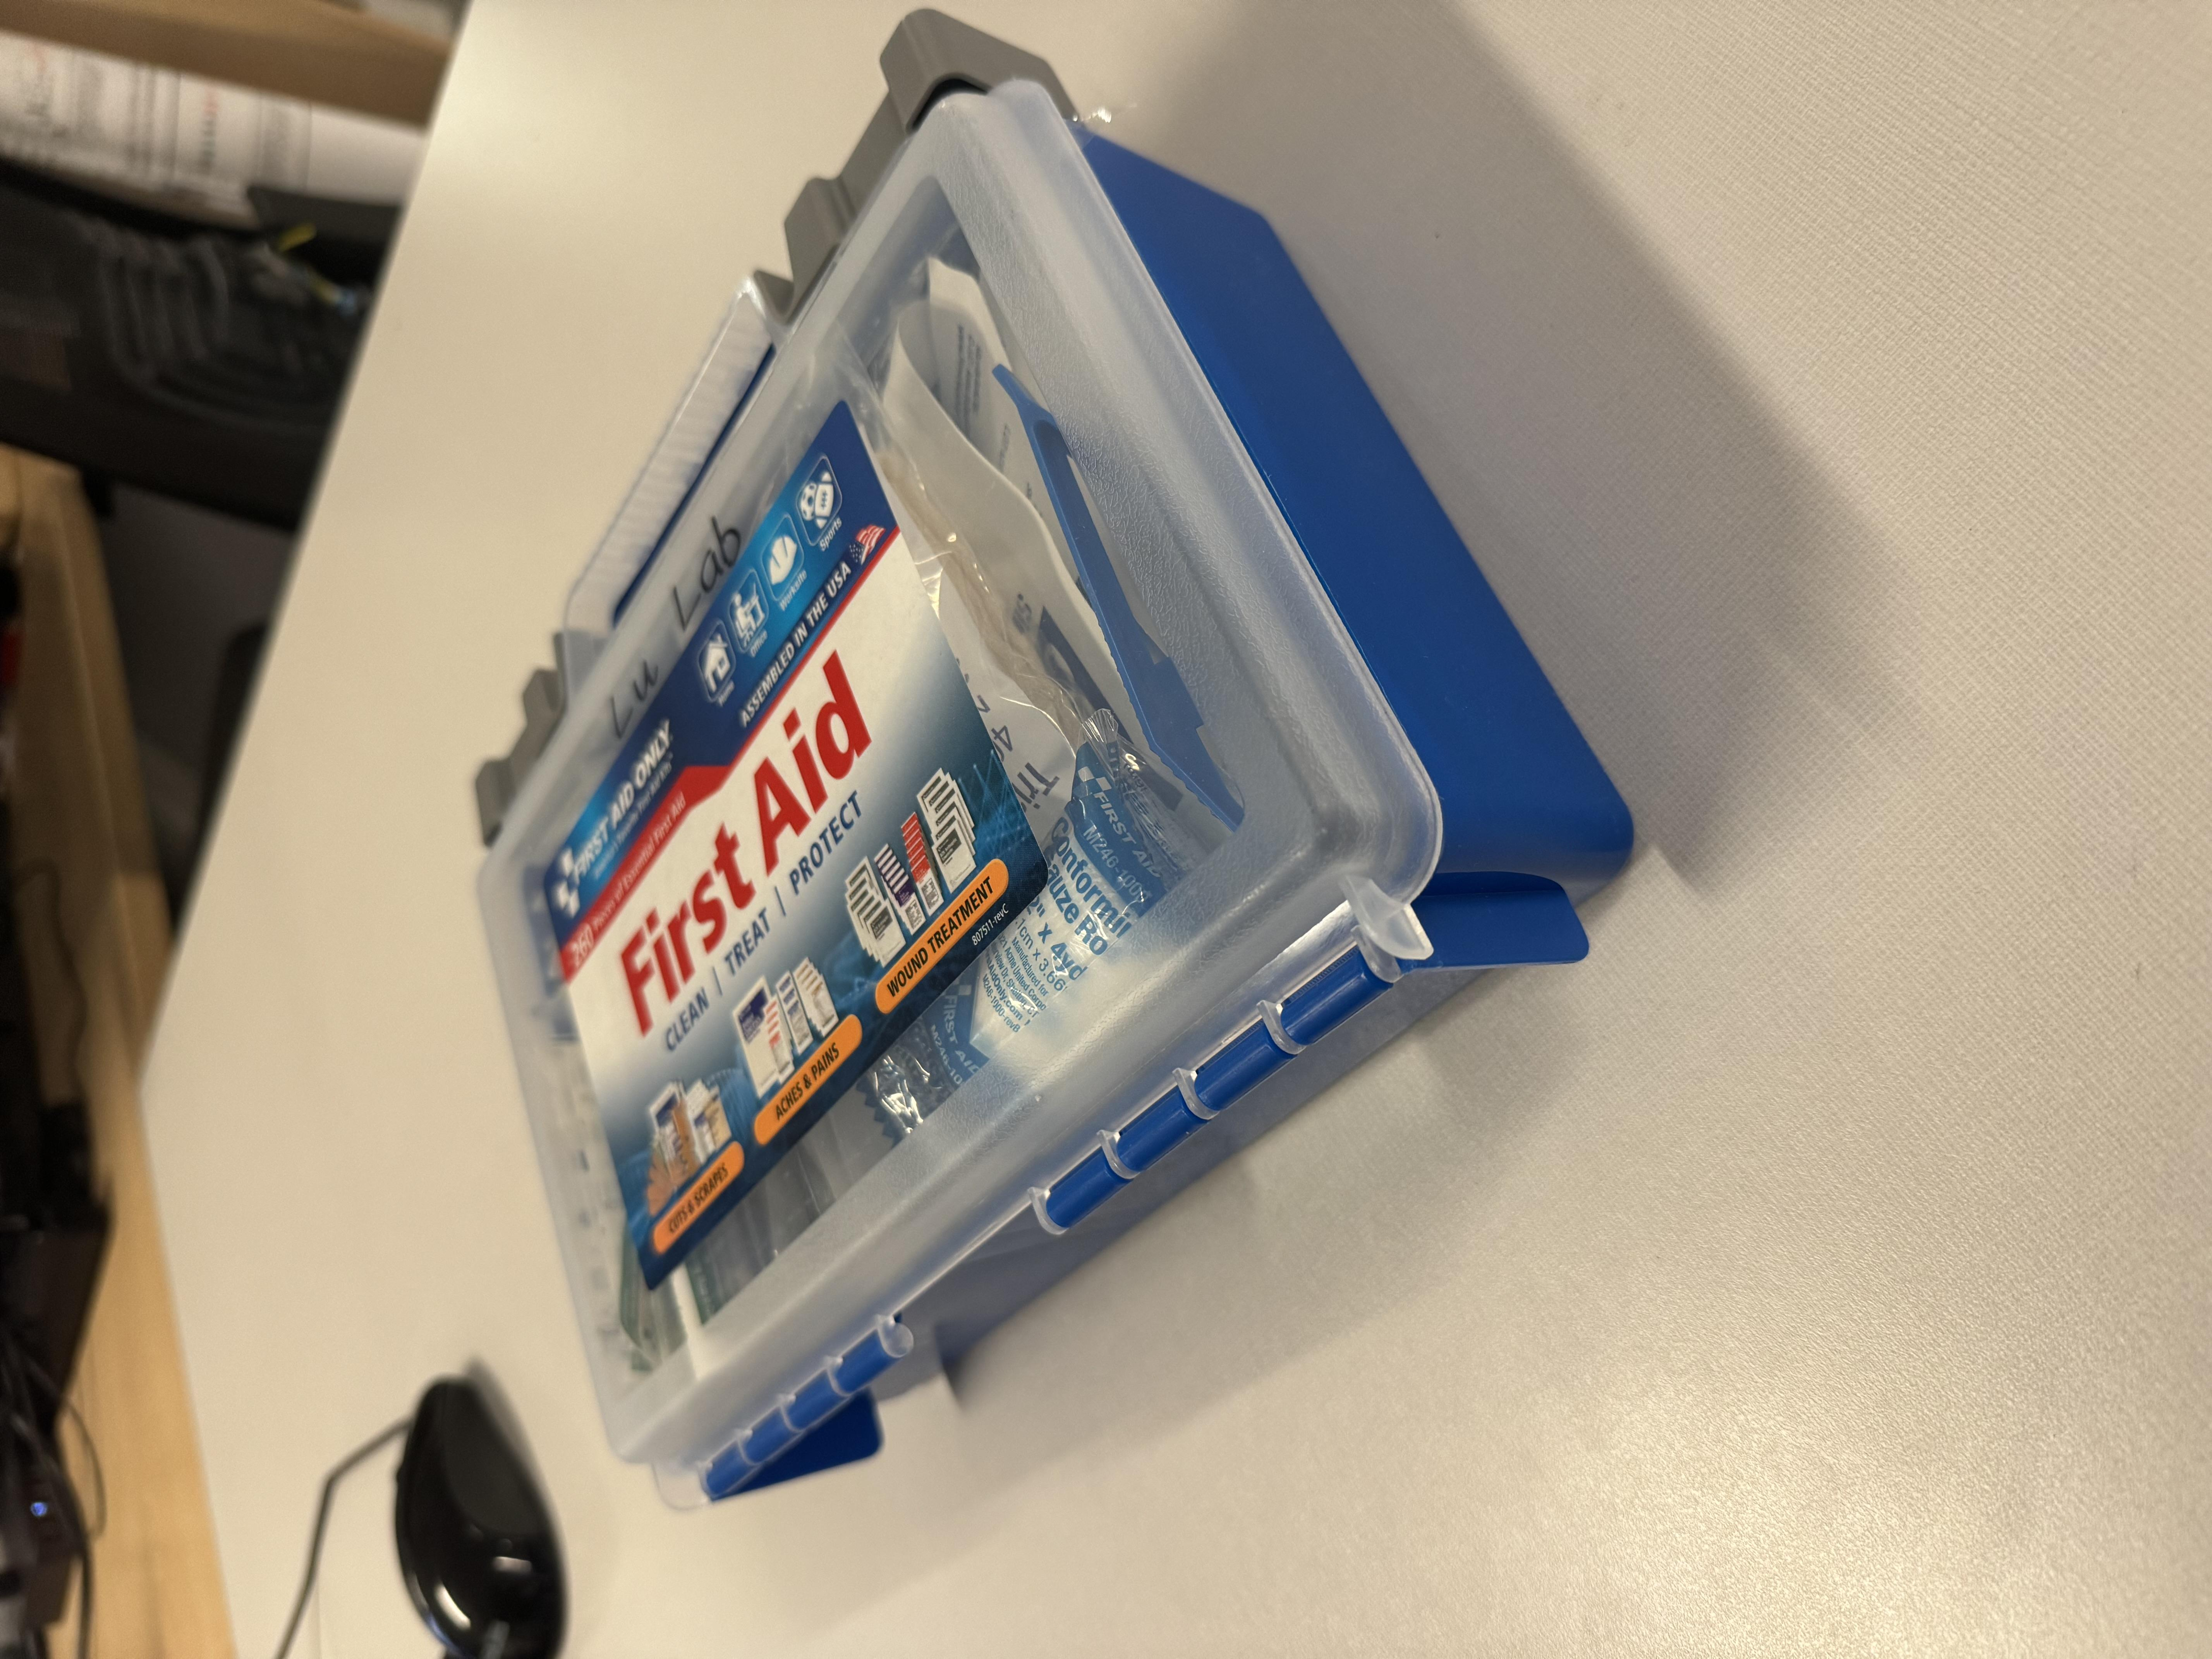first aid kit: (127, 315, 2212, 1262)
